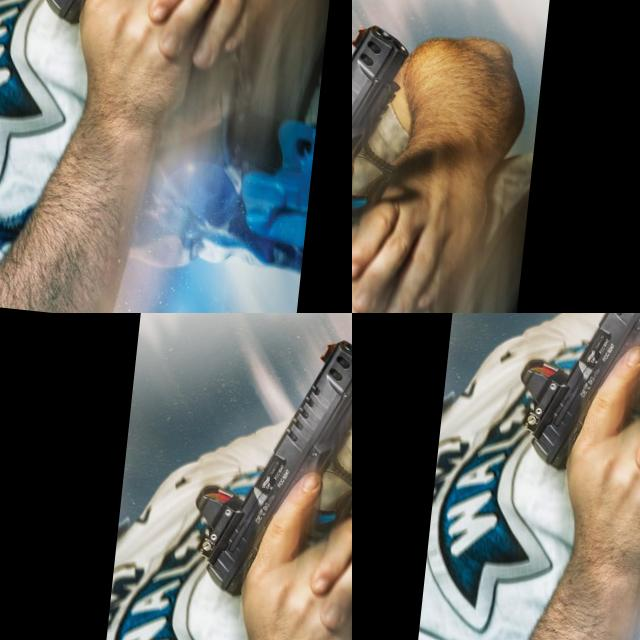handgun: (509, 313, 640, 483), (179, 522, 298, 640), (352, 121, 376, 206), (0, 207, 19, 255)
